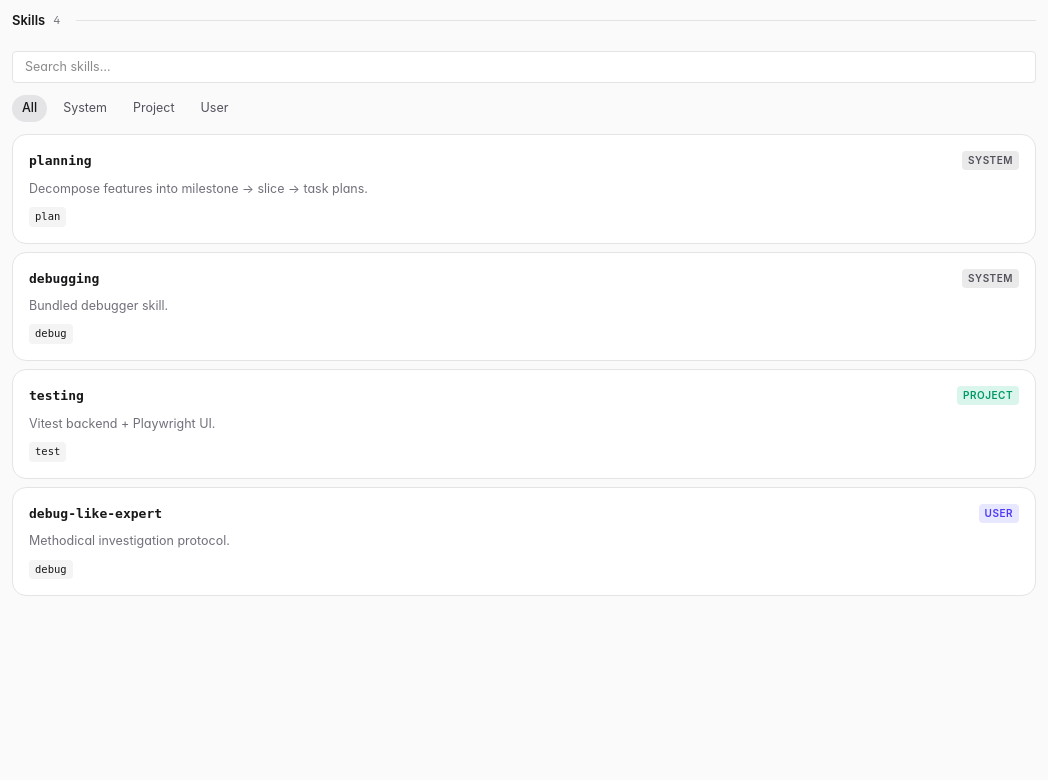
Test: SkillsPane — scope chip filtering › clicking System narrows the list to system-scoped skills only
Step 1. Click the button with test id "skills-scope-chip-system" → [85, 109], box [53, 95, 117, 122]
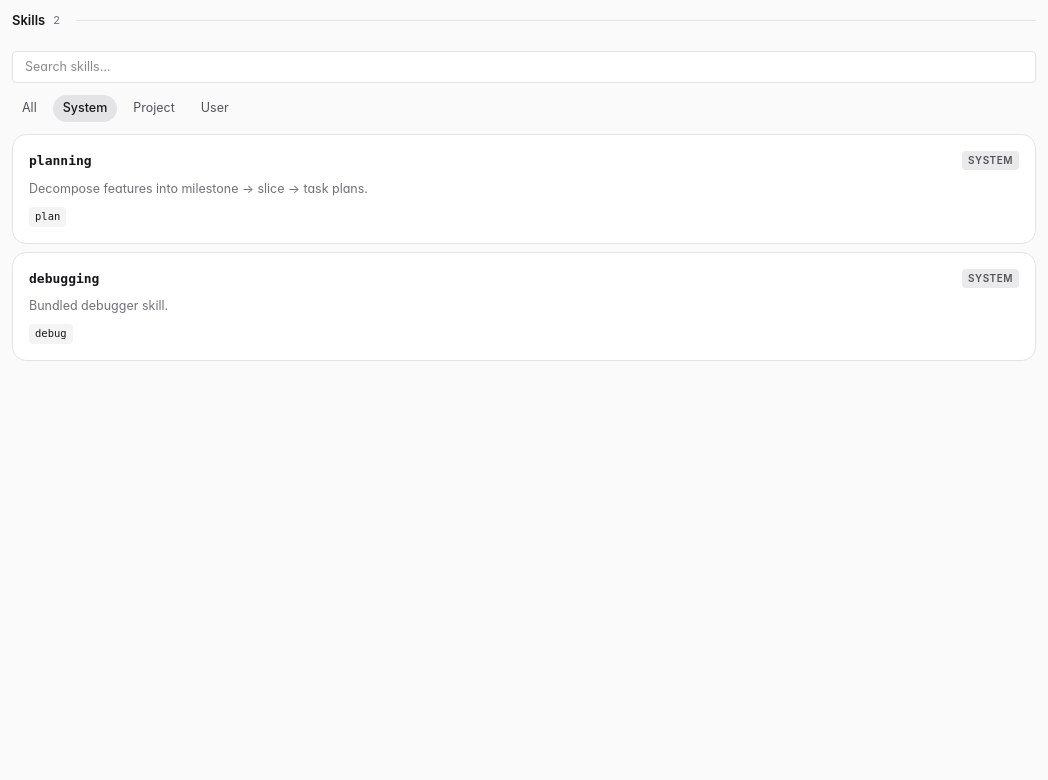
Expected: the number of elements with test id "skill-row" is 2, [29, 151, 1019, 227]; [29, 269, 1019, 344]
